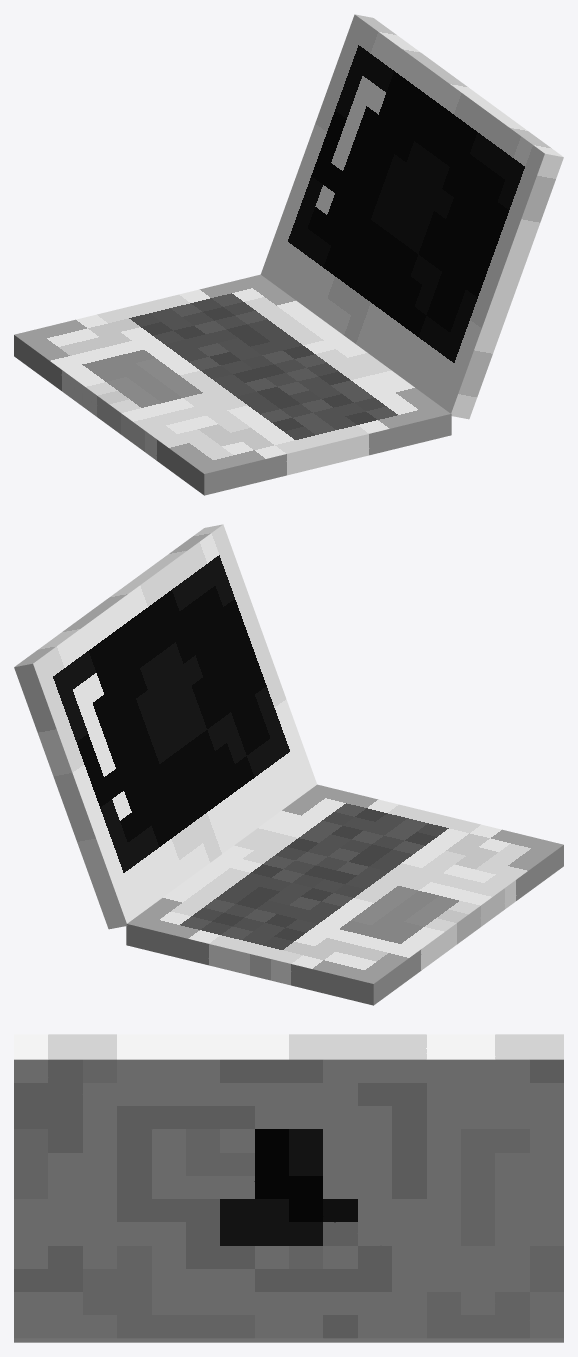
Rendered from nout.fbx.
3 renders of one model, top to bottom at view 1: azimuth 30°, elevation 25°; view 2: azimuth 150°, elevation 25°; view 3: azimuth 270°, elevation 25°, orthographic. The views are drawn at different scales.
Parts seen in each view (by area): view 1: group; view 2: group; view 3: group.
Part boxes in pixels (x1=…): group: x1=14, y1=14, x2=563, y2=495; group: x1=14, y1=524, x2=563, y2=1005; group: x1=14, y1=1034, x2=563, y2=1342.
Size of the model in its own units: 109 by 75.02 by 100.
1 material, 1 textured.
